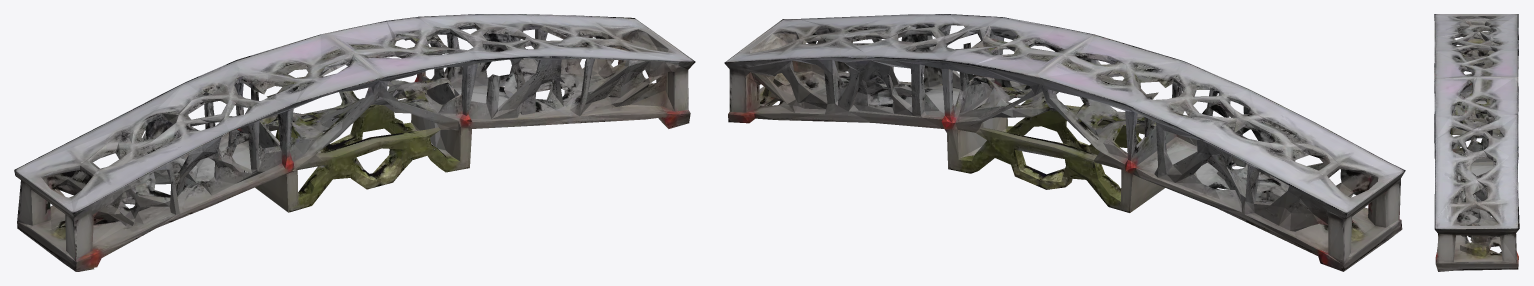
The model's file is giftbow_red_large.glb.
The picture shows the model from 3 angles, left to right: view 1: azimuth 30°, elevation 25°; view 2: azimuth 150°, elevation 25°; view 3: azimuth 270°, elevation 25°; orthographic projection. The views are drawn at different scales.
Parts seen in each view (by area): view 1: geometry_0; view 2: geometry_0; view 3: geometry_0.
Boxes of the visible parts, bbox=[...] form: geometry_0: bbox=[14, 14, 695, 271]; geometry_0: bbox=[724, 14, 1405, 271]; geometry_0: bbox=[1434, 14, 1519, 271].
Size of the model in its own units: 1 by 0.1944 by 0.1681.
1 material, 1 textured.
